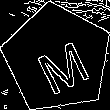M_NW: (26, 25, 89, 91)
